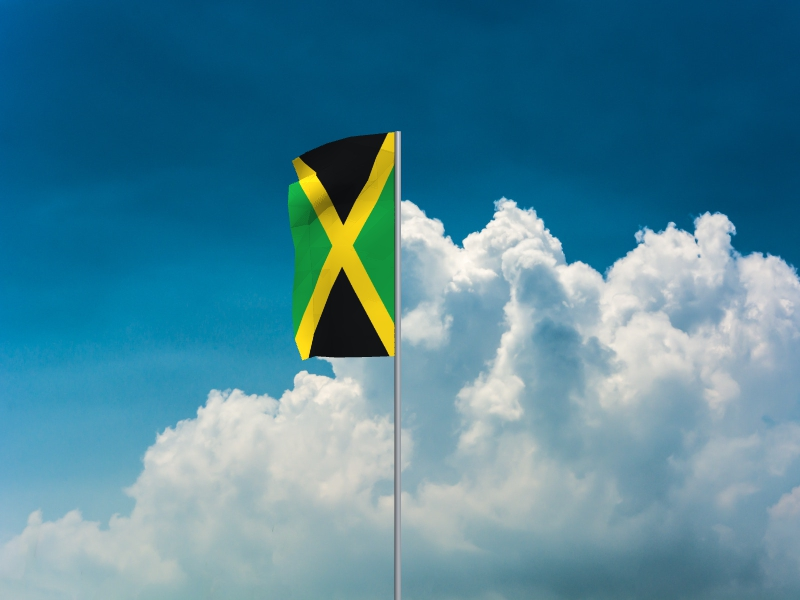jm: (287, 133, 395, 362)
